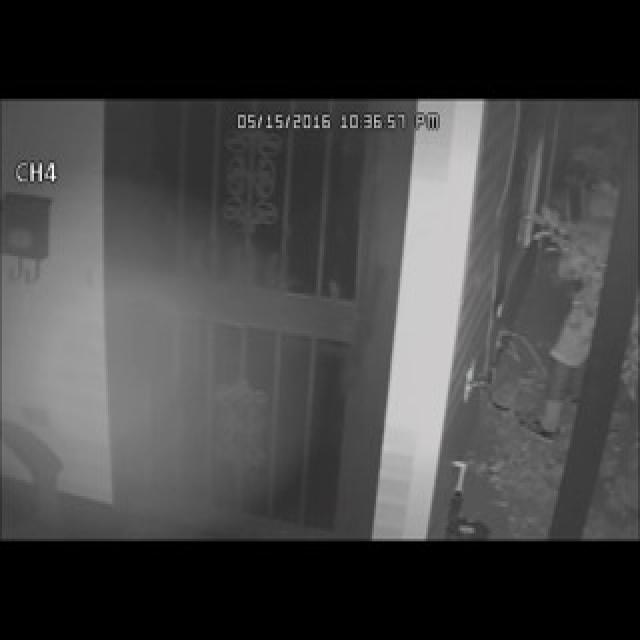thief: (557, 131, 635, 351)
